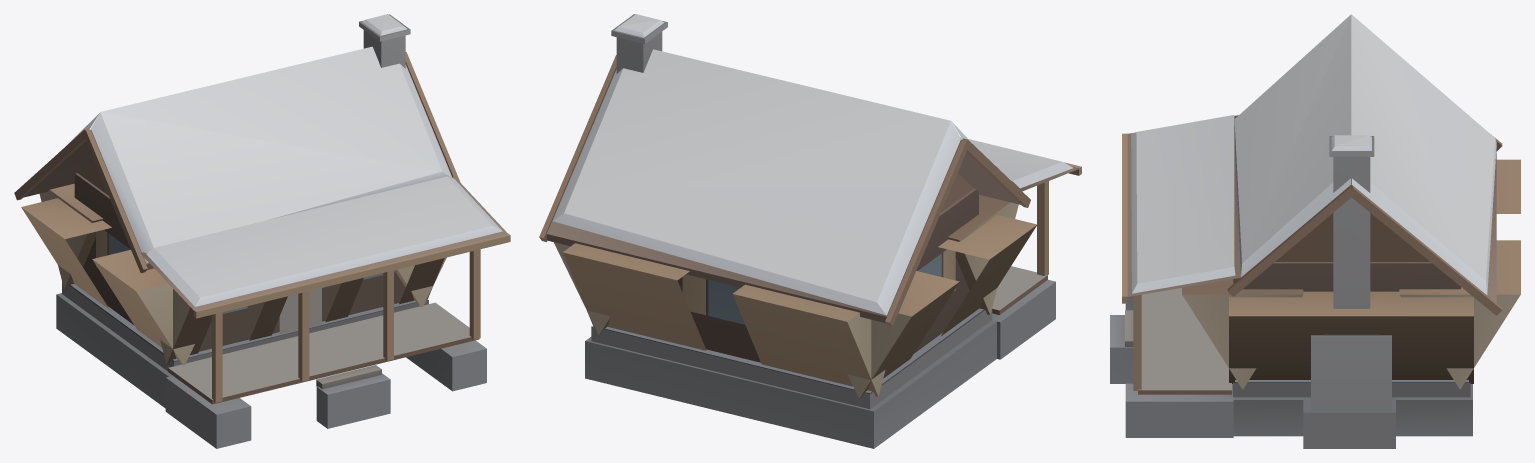
The model's file is cabin.lod2.glb.
3 views of the same model, side by side, from view 1: azimuth 30°, elevation 25°; view 2: azimuth 150°, elevation 25°; view 3: azimuth 270°, elevation 25° (orthographic). The views are drawn at different scales.
Size of the model in its own units: 10.62 by 8.56 by 10.64.
